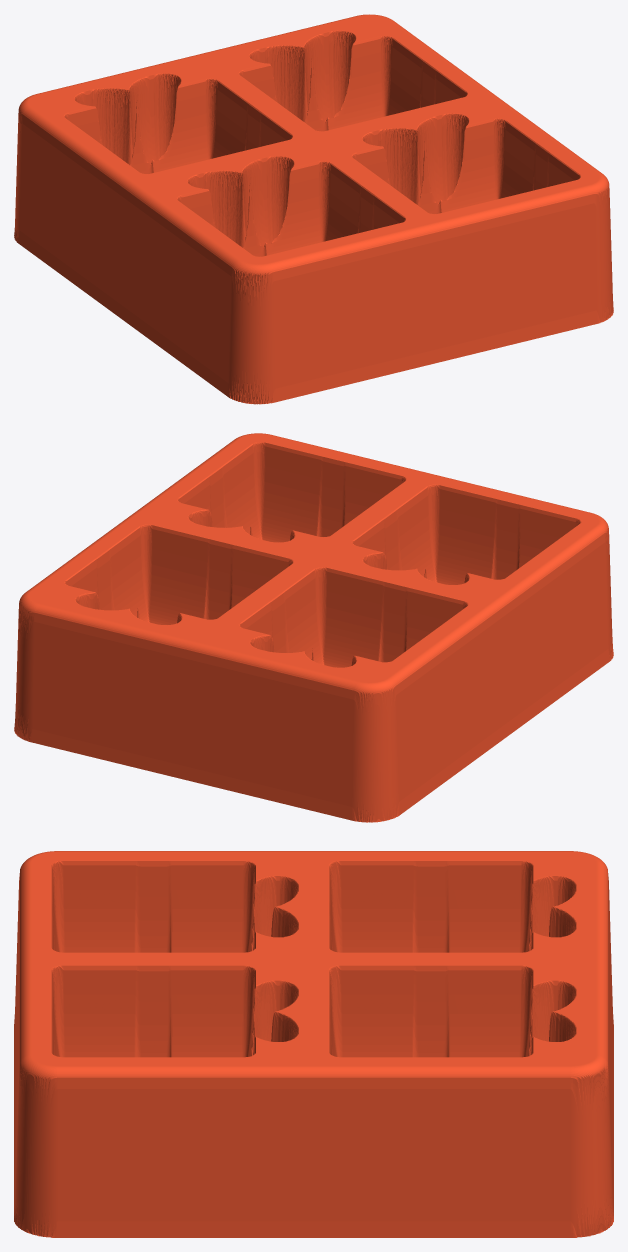
Rendered from mold.glb.
3 views of the same model, one above another, from view 1: azimuth 30°, elevation 25°; view 2: azimuth 150°, elevation 25°; view 3: azimuth 270°, elevation 25° (orthographic). The views are drawn at different scales.
Visible parts, largest first — view 1: geometry_0; view 2: geometry_0; view 3: geometry_0.
Part boxes in pixels (x1,y1,x2,y2): geometry_0: (14,14,613,404); geometry_0: (14,433,613,822); geometry_0: (14,851,613,1237).
Bounding box in the file's own units: 0.1125 × 0.0377 × 0.1248.
